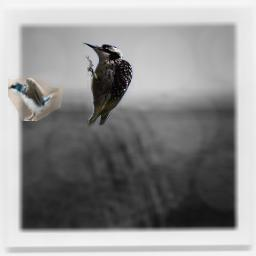Swallow: (8, 76, 63, 121)
Woodpecker: (79, 38, 137, 129)
